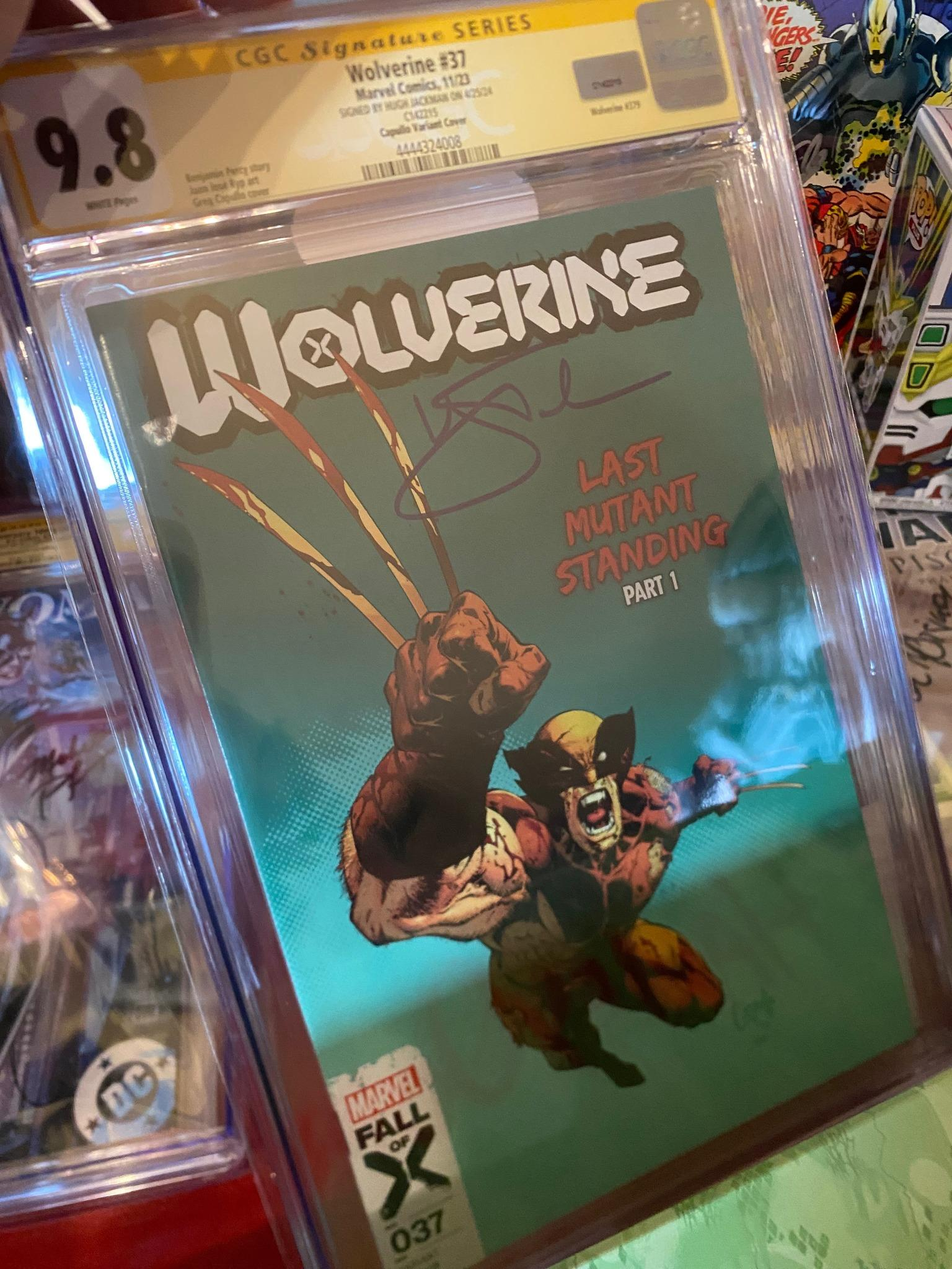comic: (87, 156, 949, 1269)
